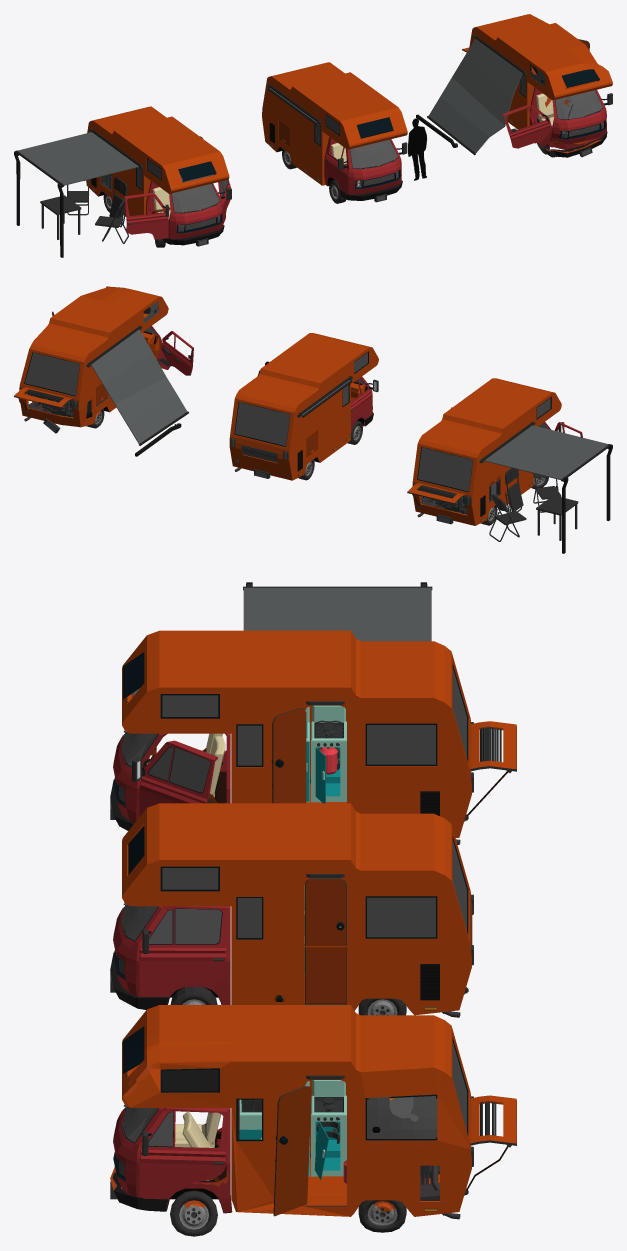
The model's file is motorhome_low_poly_with_interior.glb.
3 renders of one model, top to bottom at view 1: azimuth 30°, elevation 25°; view 2: azimuth 150°, elevation 25°; view 3: azimuth 270°, elevation 25°, orthographic. The views are drawn at different scales.
Visible parts, largest first — view 1: motorhome.003, motorhome.002, motorhome, Plane.002; view 2: motorhome.003, motorhome.002, motorhome; view 3: motorhome.002, motorhome.003, motorhome.
Boxes of the visible parts, x1,y1,x2,y2 form: motorhome.003: (14, 106, 231, 257); motorhome.002: (416, 14, 612, 157); motorhome: (262, 62, 407, 203); Plane.002: (408, 118, 426, 180); motorhome.003: (407, 378, 612, 553); motorhome.002: (14, 286, 193, 456); motorhome: (229, 333, 378, 480); motorhome.002: (110, 1005, 516, 1236); motorhome.003: (110, 582, 516, 844); motorhome: (110, 803, 473, 1017).
Bounding box in the file's own units: 16.98 × 2.7 × 5.55.
55 materials, 2 textured.
